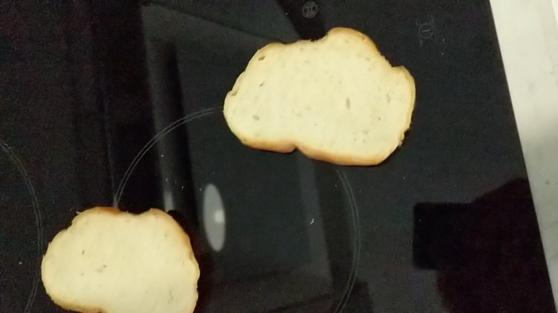white_bread: (220, 25, 416, 164), (43, 206, 200, 312)
